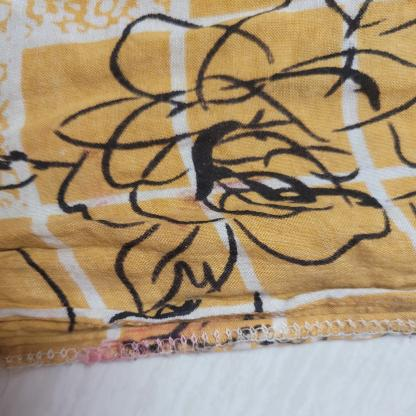spot: (81, 335, 160, 361), (184, 187, 212, 212), (213, 180, 255, 196), (84, 147, 102, 164)
